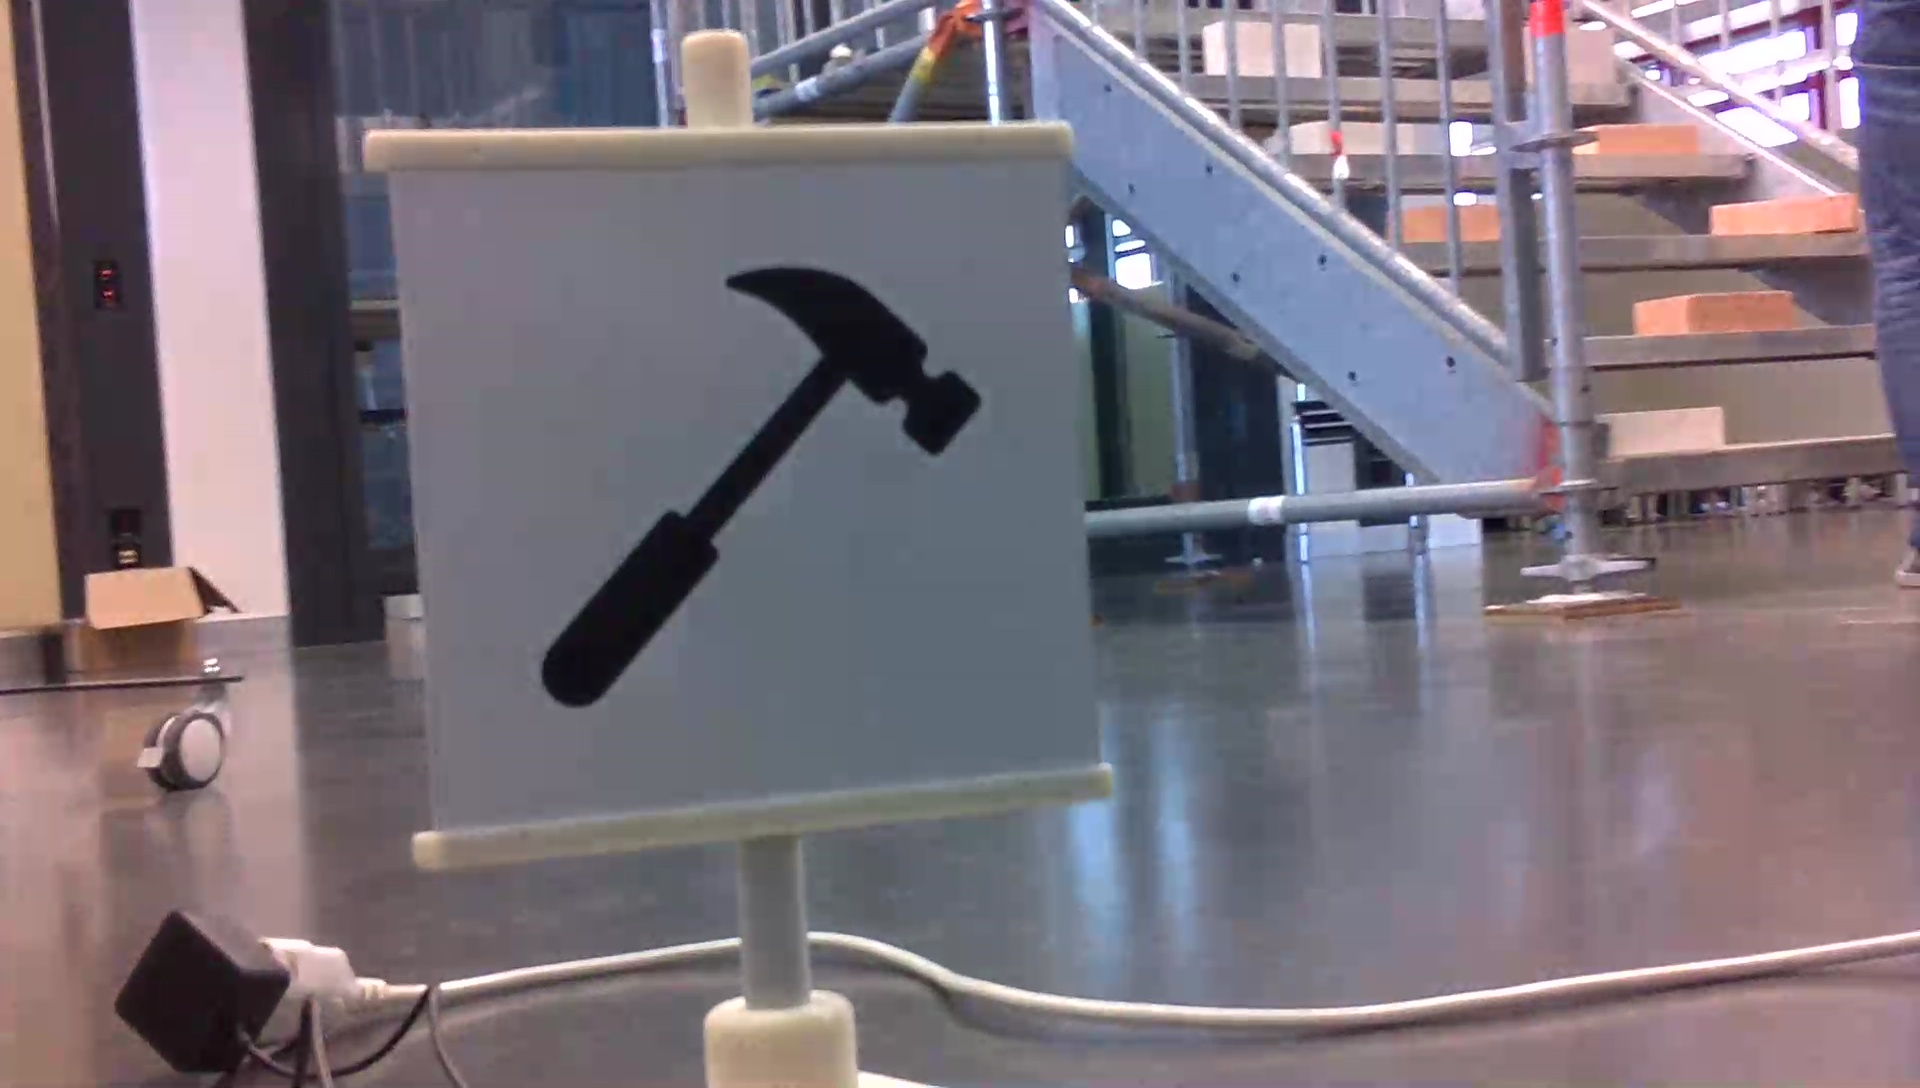brick: (1633, 287, 1791, 332), (1605, 408, 1724, 454), (1710, 195, 1853, 231), (1578, 123, 1696, 158), (1560, 32, 1610, 86)
hammer: (524, 258, 996, 719)
